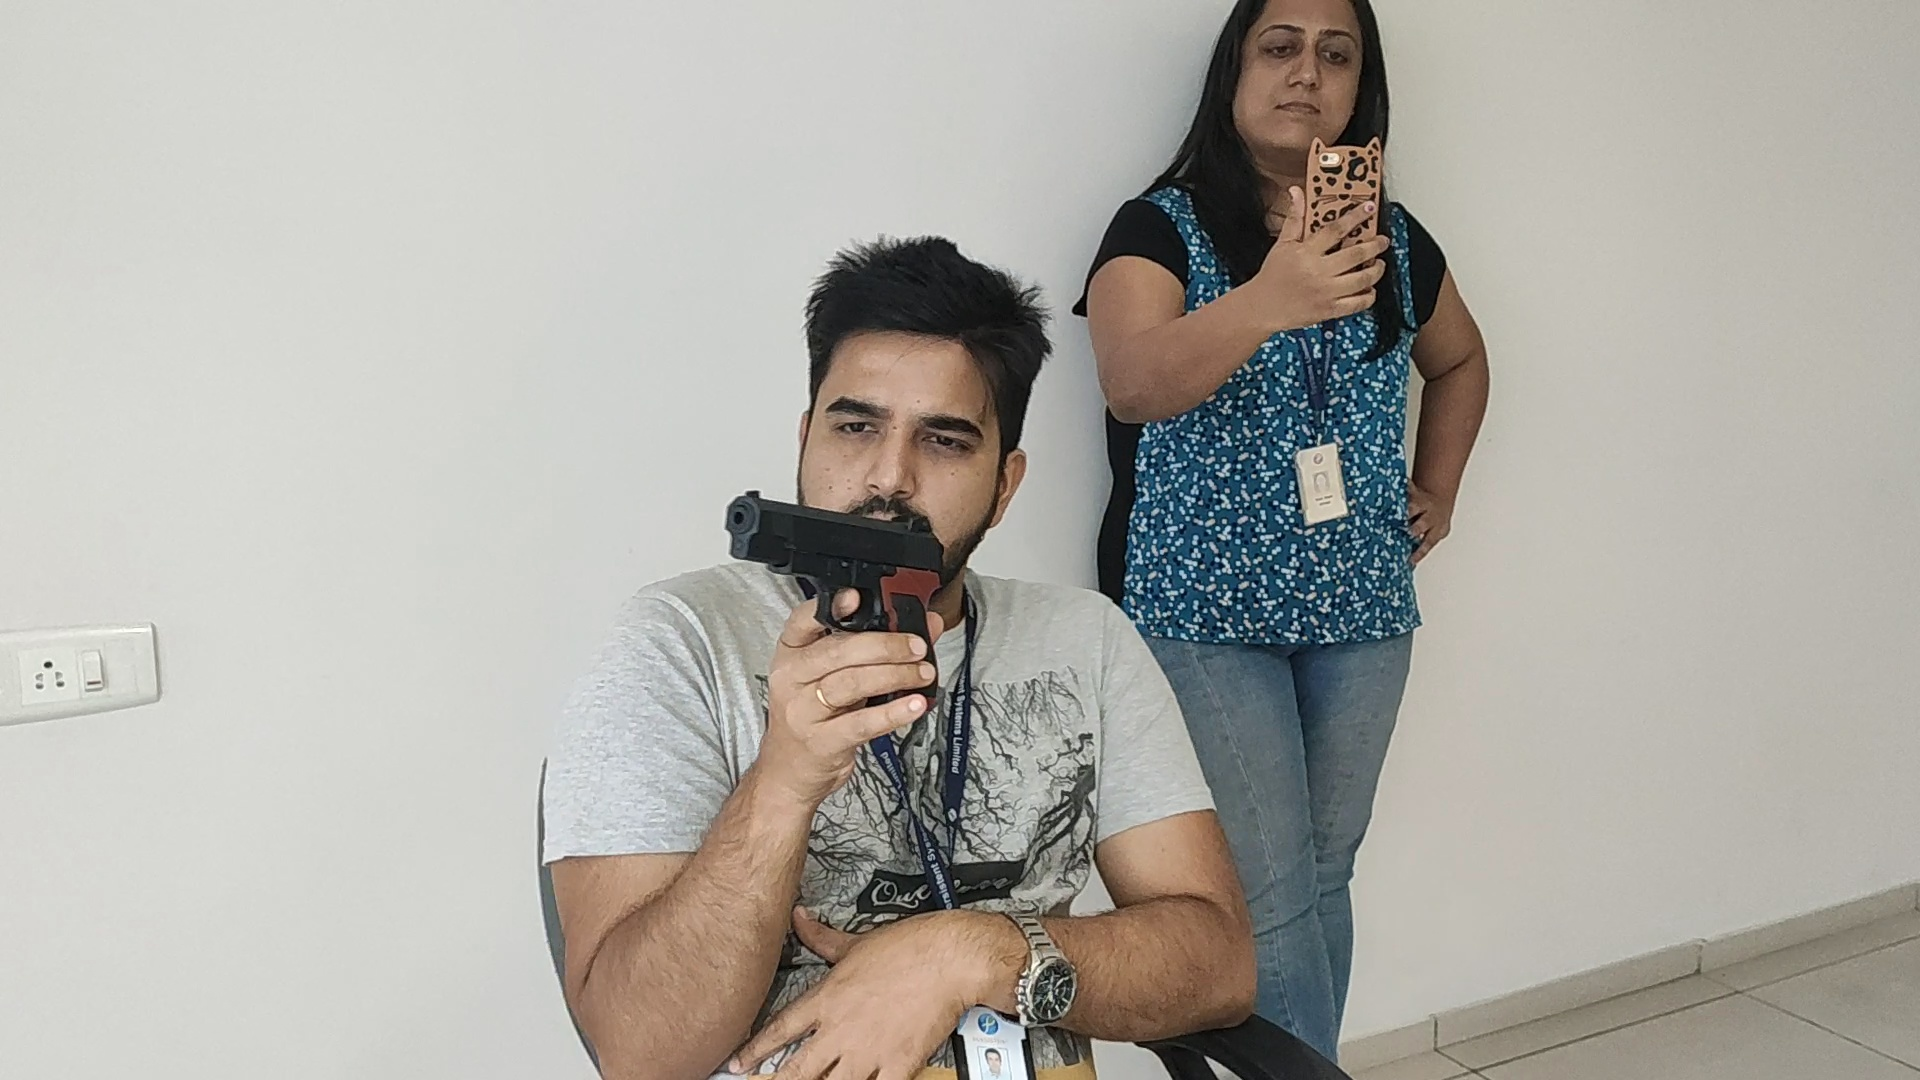gun: (723, 489, 943, 588)
